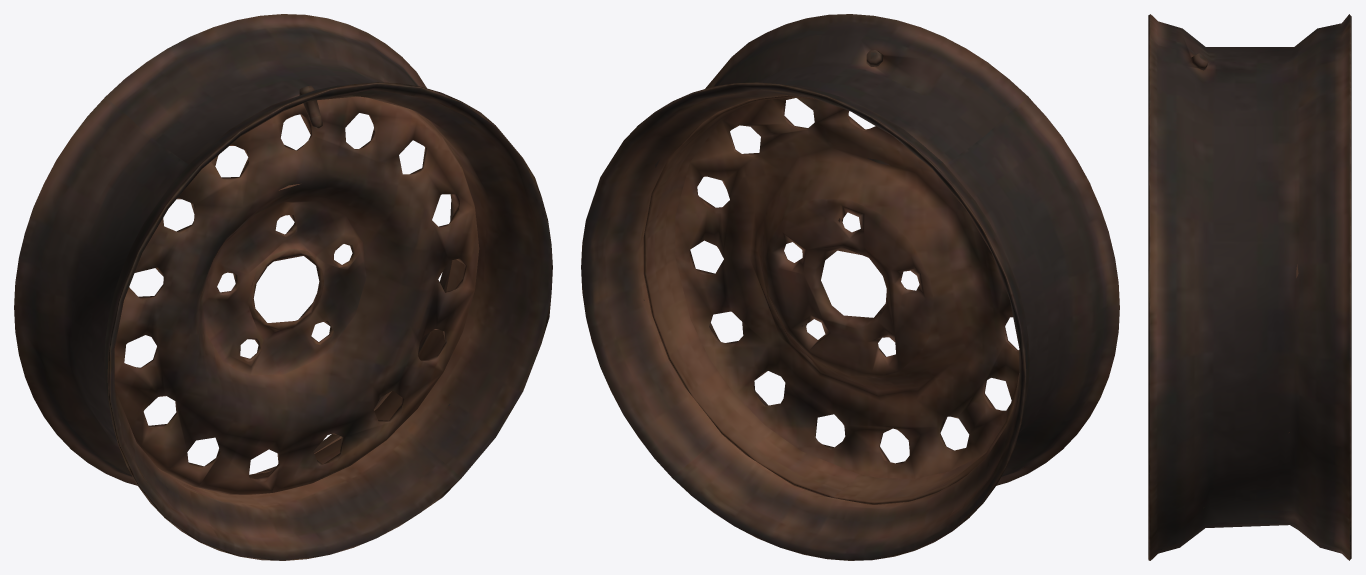
The model's file is rusted_wheel_rim_01.glb.
The picture shows the model from 3 angles, left to right: view 1: azimuth 30°, elevation 25°; view 2: azimuth 150°, elevation 25°; view 3: azimuth 270°, elevation 25°; orthographic projection. The views are drawn at different scales.
Visible parts, largest first — view 1: rusted_wheel_rim_01; view 2: rusted_wheel_rim_01; view 3: rusted_wheel_rim_01.
Part boxes in pixels (box(x1,y1,x2,y2)): rusted_wheel_rim_01: box(14, 14, 552, 560); rusted_wheel_rim_01: box(581, 14, 1119, 560); rusted_wheel_rim_01: box(1148, 14, 1351, 560).
Size of the model in its own units: 0.4039 by 0.4039 by 0.15.
Materials: 1 (1 with a texture image).
